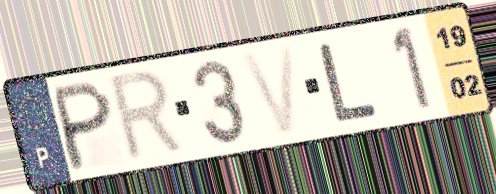1: (389, 23, 438, 114)
3: (191, 57, 249, 147)
L: (314, 40, 381, 125)
P: (52, 77, 115, 175)
R: (106, 65, 190, 167)
V: (237, 42, 300, 139)
